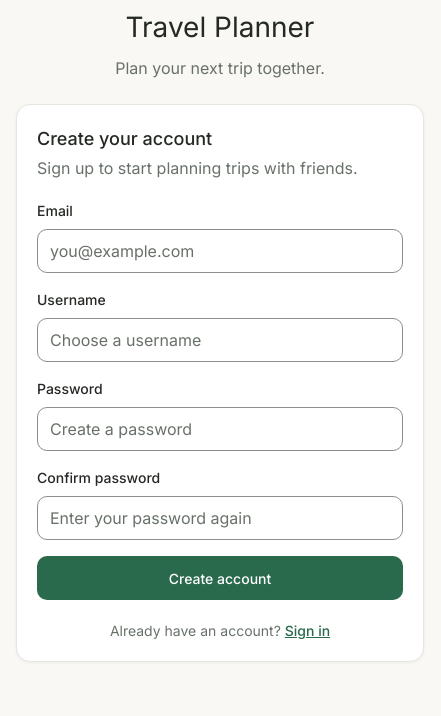
Test: registers a user through the registration page
expect the heading "Create your account" is shown: met, box [37,128,212,149]
In the field labelled "Email": (220, 251) [37,229,403,273], type "test-user@example.com"
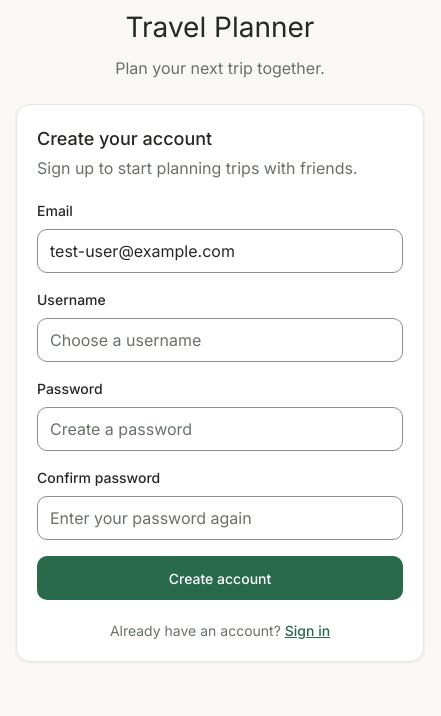
In the field labelled "Username": (220, 340) [37,318,403,362], type "test-user"
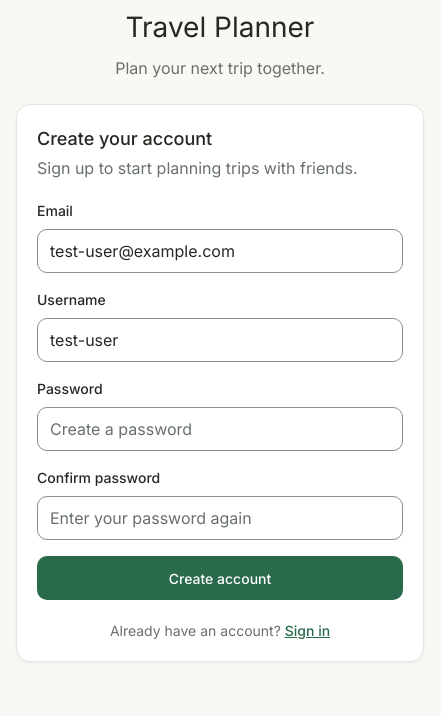
In the password field labelled "Password": (220, 429) [37,407,403,451], type "example-password"
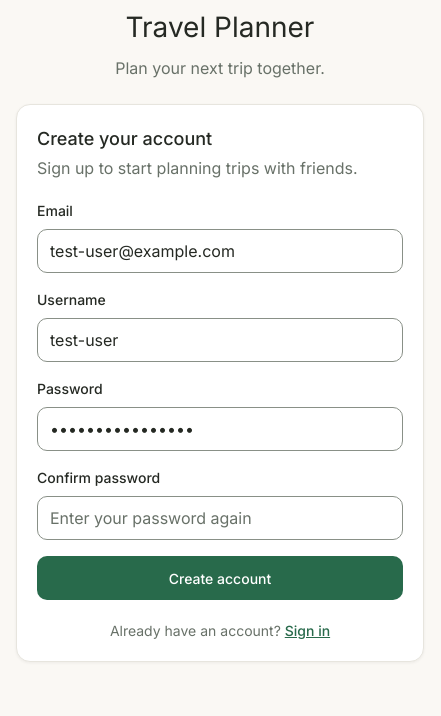
In the password field labelled "Confirm password": (220, 518) [37,496,403,540], type "example-password"
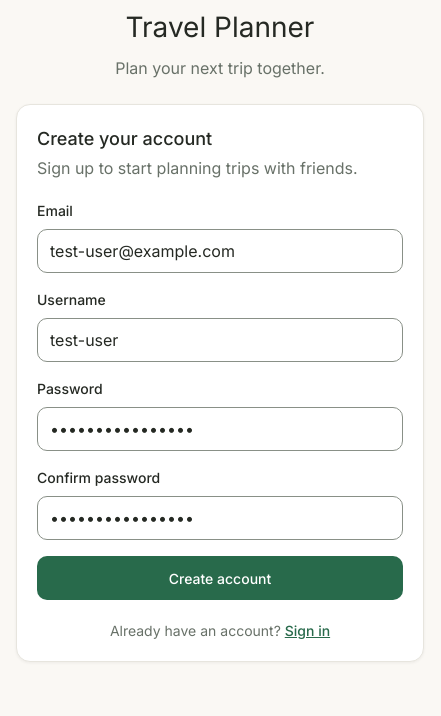
Click the button "Create account": click(220, 578) [37,556,403,600]
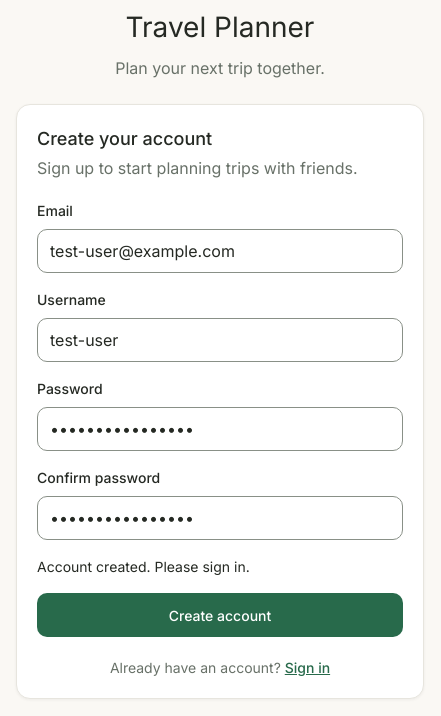
expect the text "Account created. Please sign in." is shown: met, box [37,558,250,575]
